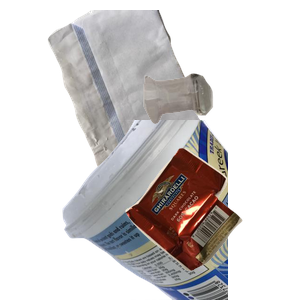glass: (141, 71, 300, 187)
paper: (45, 10, 251, 190)
plastic: (60, 120, 300, 300)
trash: (123, 145, 300, 300)
